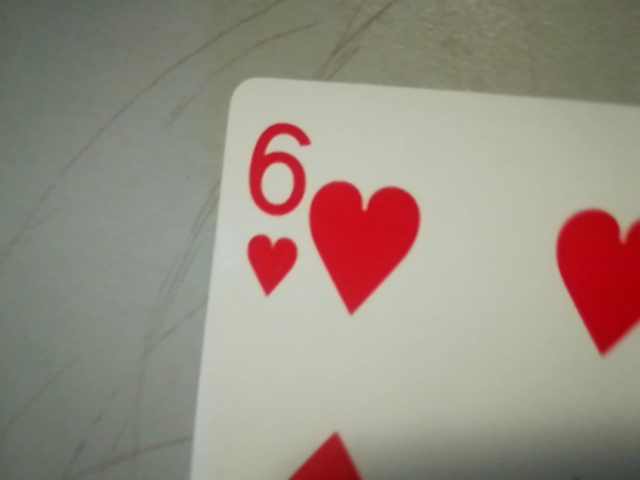hx 6: (236, 107, 309, 307)
